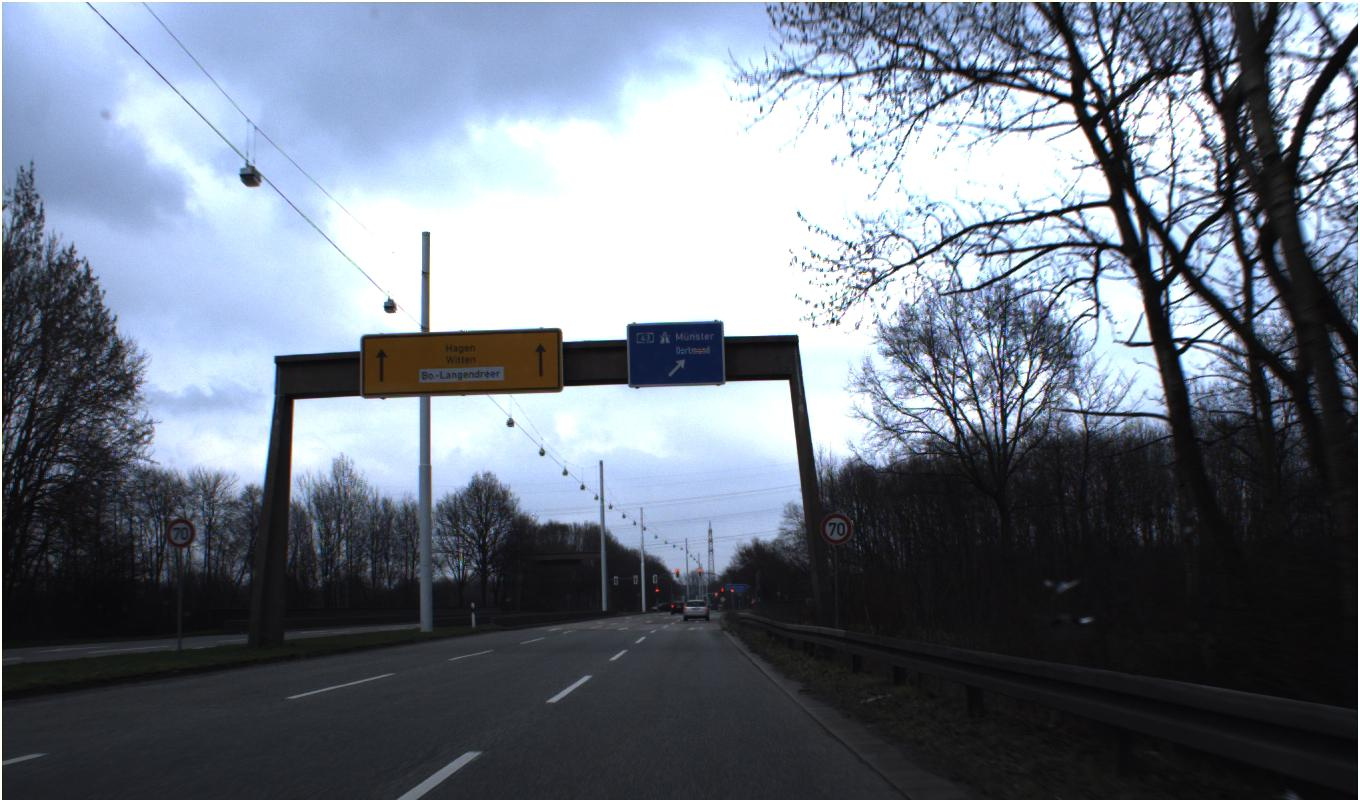prohibitory: (819, 511, 853, 545), (164, 517, 195, 548)
